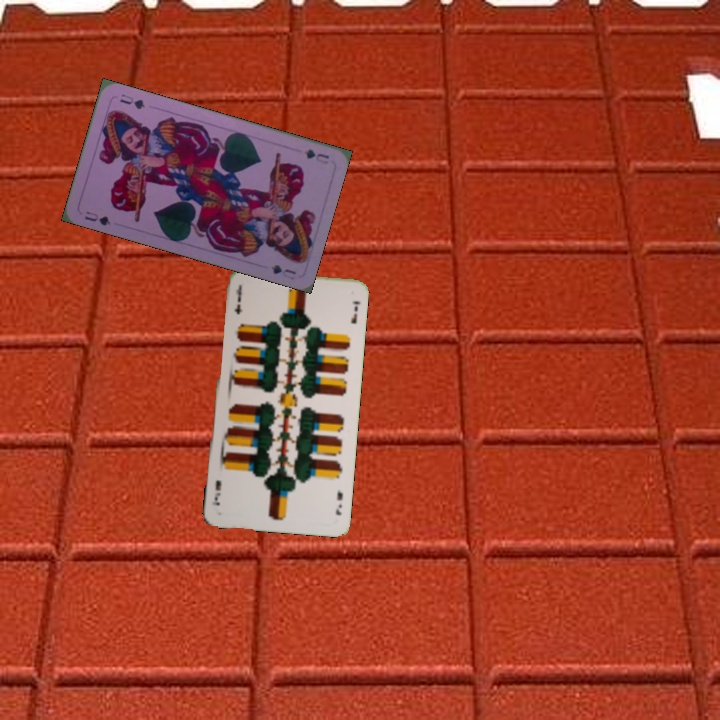E7: (230, 283, 243, 317), (332, 486, 345, 517)
GU: (300, 145, 332, 167), (81, 207, 113, 228)
